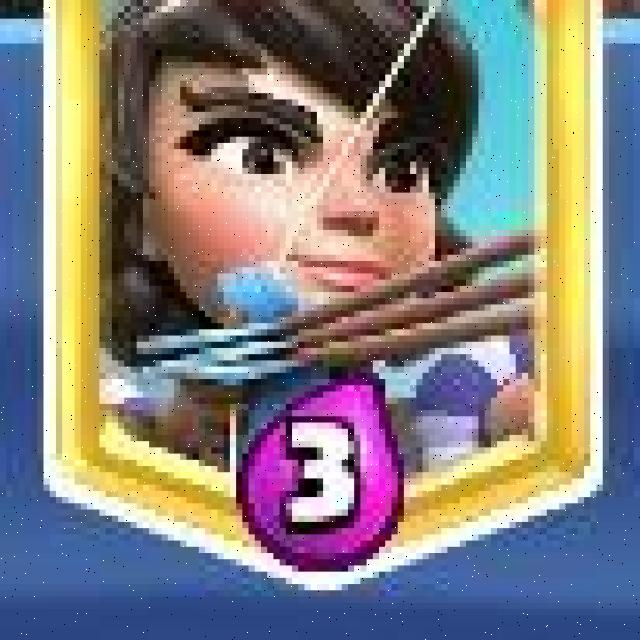Princess: (43, 0, 606, 594)
